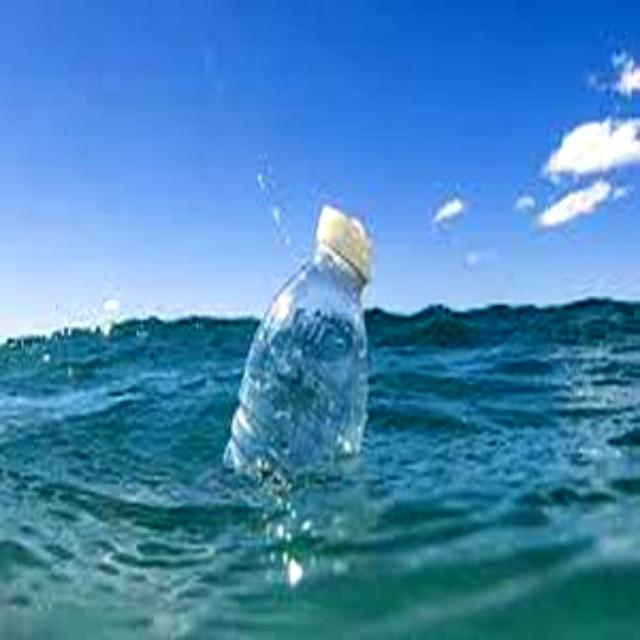Plastic: (220, 196, 376, 472)
